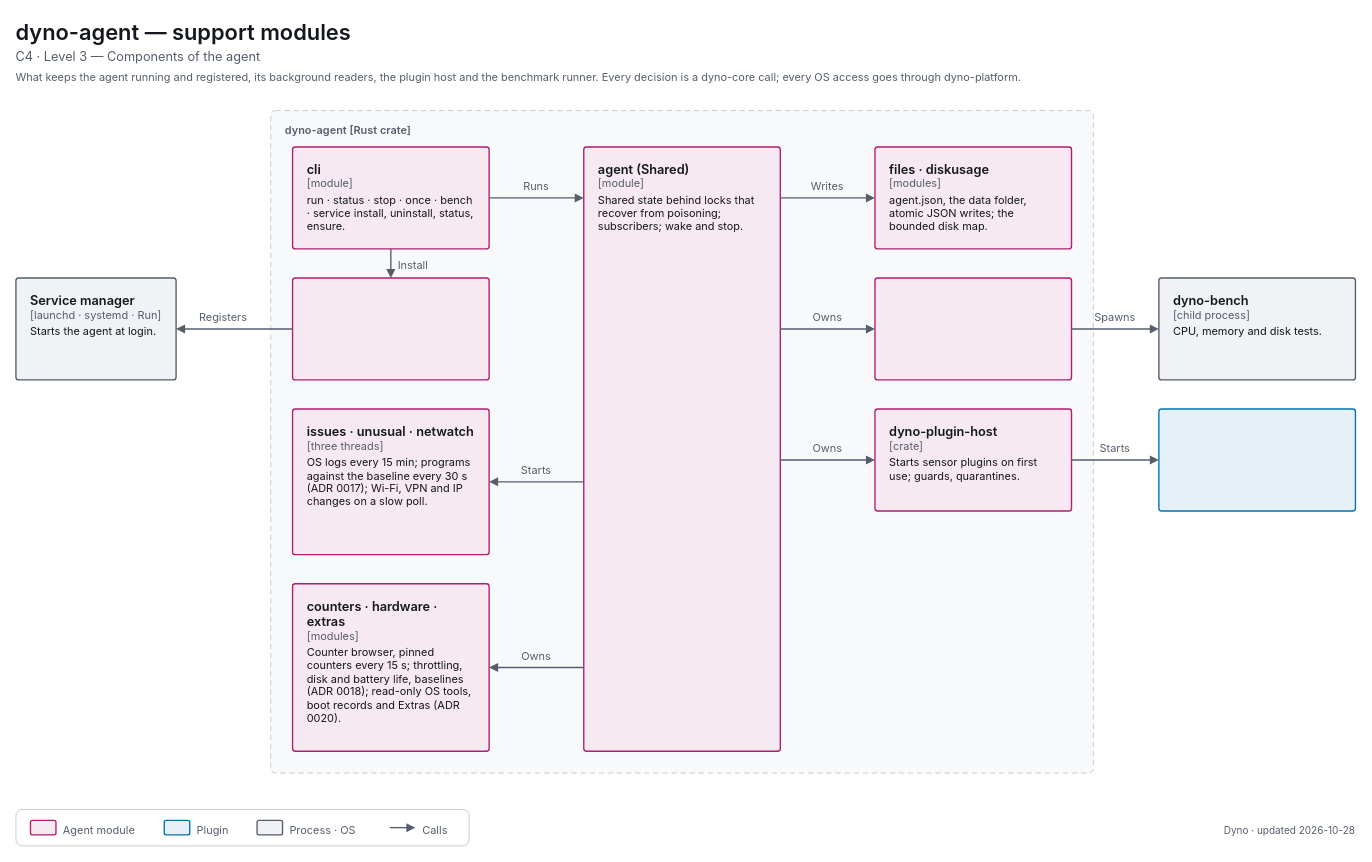
The diagram is 1372 pixels wide and 862 high, and some of its shapes have lost their labels. The shapes that lost their labels are listed below. From the top down, each one's centre as x and y in pixels, then its label:
the point at 390,328: service [module] Launch agent, systemd unit, Run entry. The unit text is pure.
the point at 973,328: bench [BenchCentre] On a click, one kind at a time, a timeout each.
the point at 1257,459: Plugins [out of process] Vendor sensors, over dyno-ipc.
